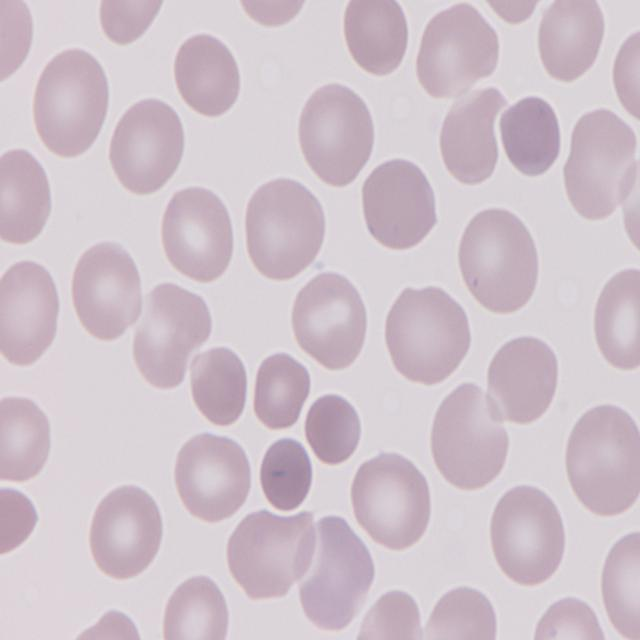RBC: (294, 515, 374, 640), (238, 172, 326, 284), (458, 204, 544, 317), (382, 283, 474, 388), (30, 48, 112, 162), (561, 405, 640, 523), (428, 378, 508, 494), (561, 106, 640, 221), (411, 0, 502, 99), (296, 80, 376, 189), (286, 270, 372, 370), (488, 484, 570, 588), (358, 152, 442, 252), (106, 92, 184, 198), (350, 452, 430, 555), (160, 186, 240, 287), (224, 510, 313, 600), (172, 430, 253, 528), (87, 484, 167, 582), (68, 242, 144, 345), (485, 332, 562, 426), (0, 257, 65, 366), (532, 0, 606, 89), (170, 29, 242, 119), (434, 91, 500, 185), (341, 0, 415, 80), (188, 343, 254, 431), (0, 148, 54, 249), (0, 391, 57, 484), (591, 267, 640, 374), (251, 352, 313, 432), (160, 573, 232, 640), (600, 528, 640, 640), (424, 583, 500, 640), (527, 596, 608, 640), (0, 480, 41, 558), (100, 0, 168, 45), (611, 19, 640, 124), (0, 0, 33, 90), (65, 609, 152, 640), (620, 141, 640, 264), (233, 0, 313, 29), (470, 0, 559, 26)
Spherocyte: (500, 91, 568, 178), (254, 429, 316, 514), (304, 387, 362, 465)
